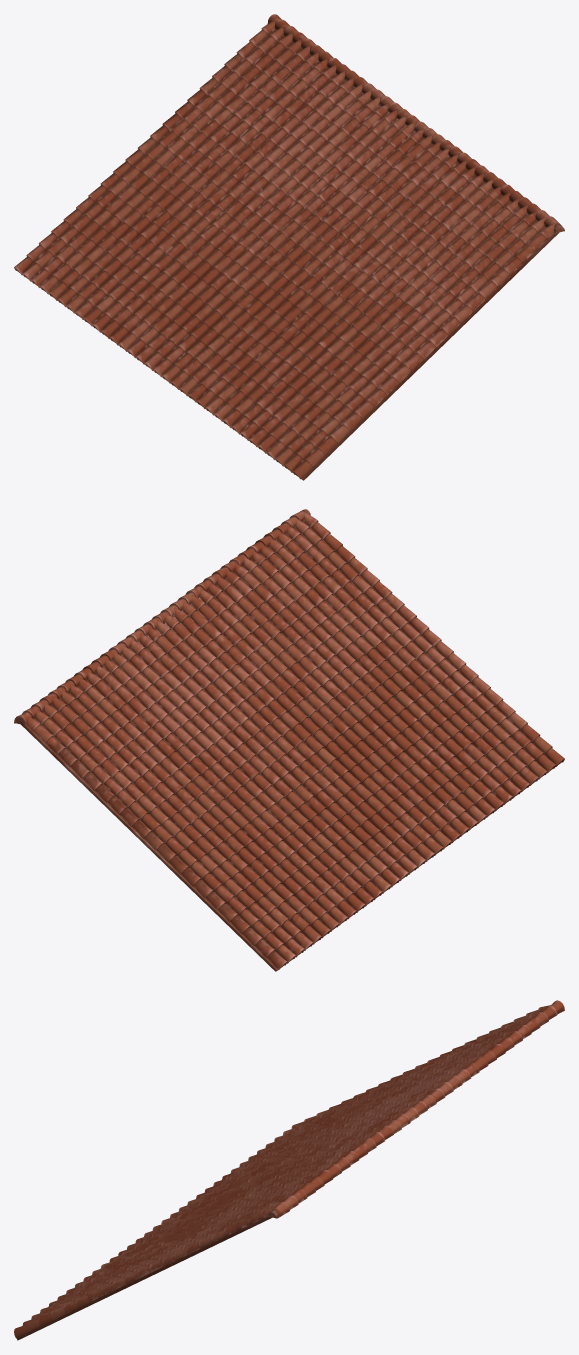
The model's file is SM_Roof_B_Simple.fbx.
3 renders of one model, top to bottom at view 1: azimuth 30°, elevation 25°; view 2: azimuth 150°, elevation 25°; view 3: azimuth 330°, elevation 25°, orthographic.
Parts seen in each view (by area): view 1: SM_Roof_B_Simple_LOD0; view 2: SM_Roof_B_Simple_LOD0; view 3: SM_Roof_B_Simple_LOD0.
Boxes of the visible parts, left/top/right/bottom form: SM_Roof_B_Simple_LOD0: left=14, top=14, right=564, bottom=480; SM_Roof_B_Simple_LOD0: left=14, top=509, right=564, bottom=971; SM_Roof_B_Simple_LOD0: left=14, top=1000, right=564, bottom=1340.
Size of the model in its own units: 718 by 1328 by 495.
1 material, 1 textured.
